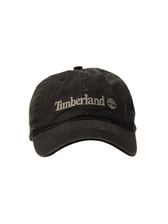other: (20, 62, 143, 159)
